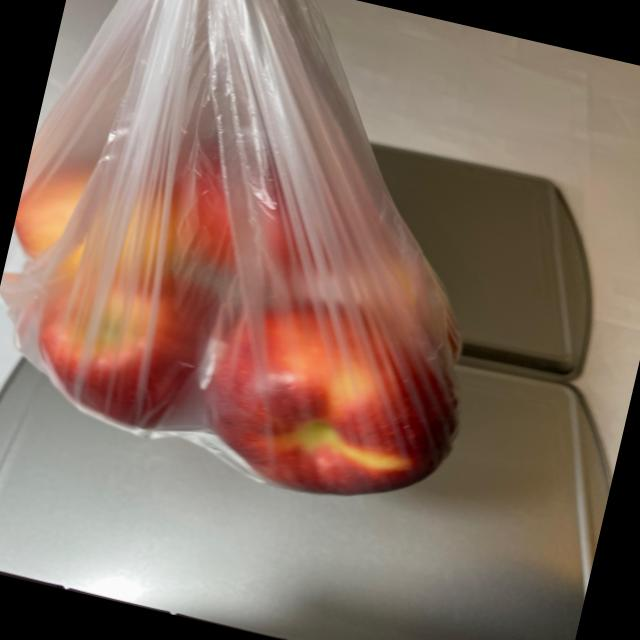apple: (0, 62, 524, 528)
